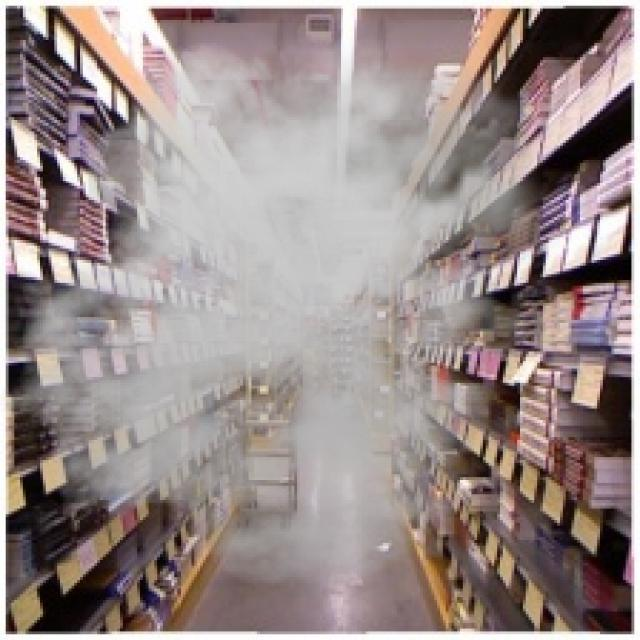Smoke: (0, 26, 569, 588)
